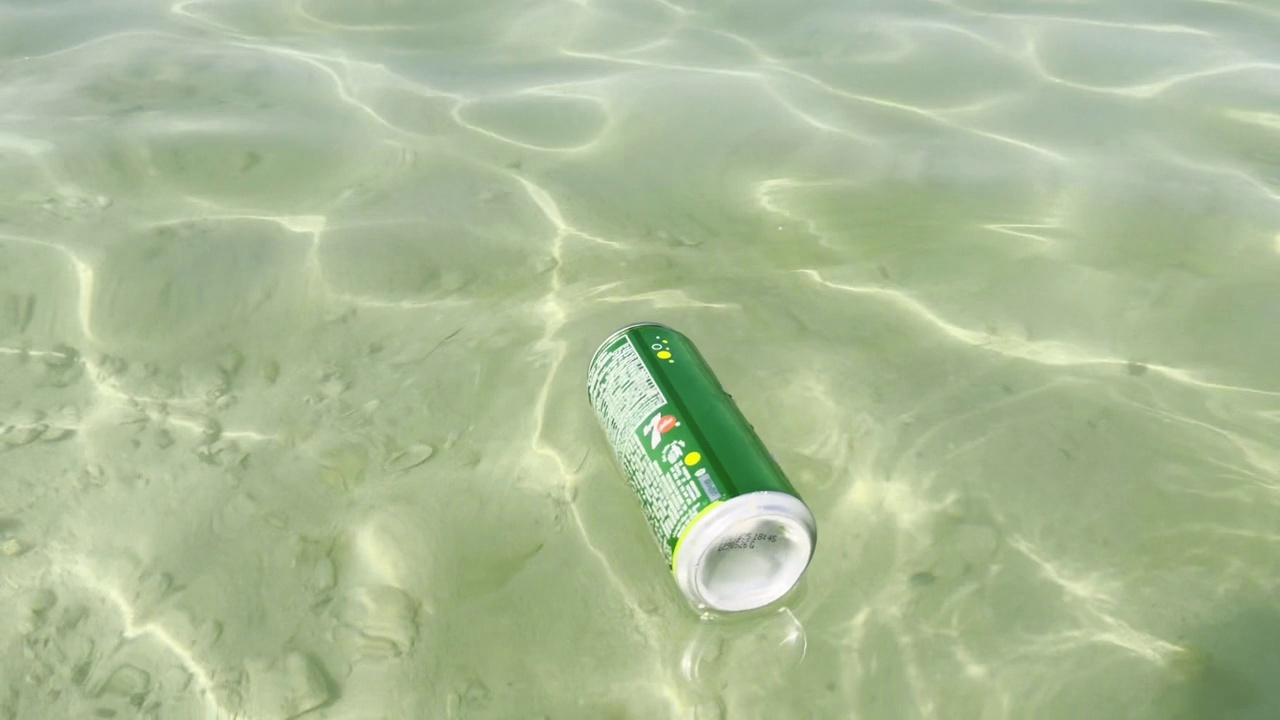debris: (577, 300, 829, 635)
